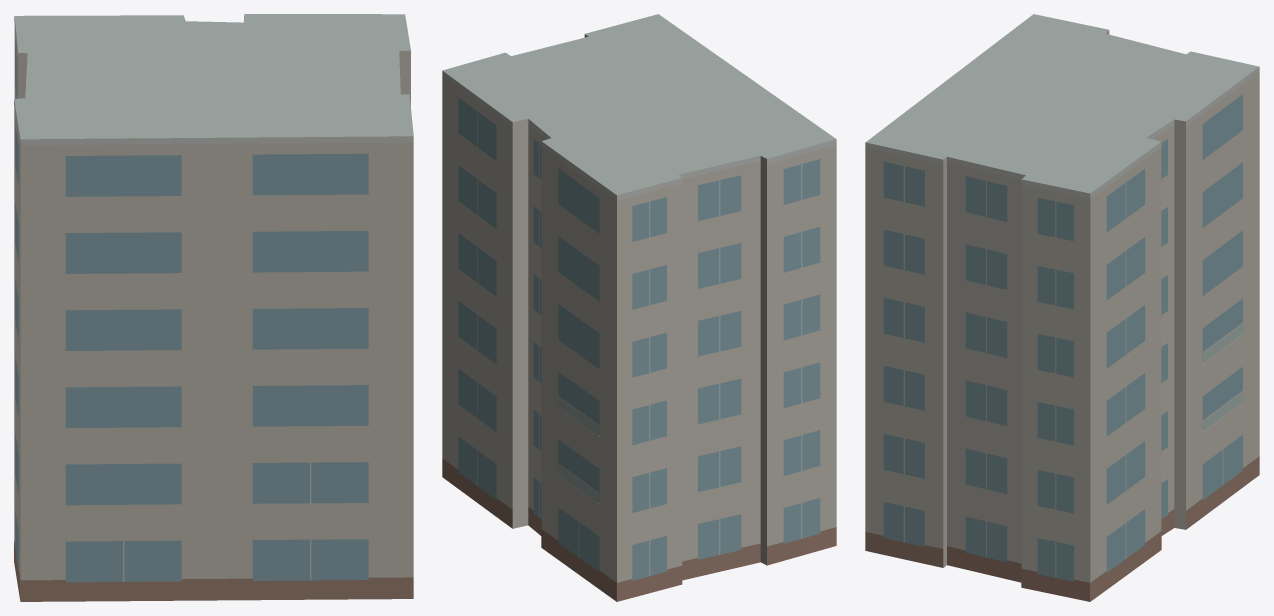
File: survey-upis-32851990.glb
3 renders of one model, left to right at view 1: azimuth 30°, elevation 25°; view 2: azimuth 150°, elevation 25°; view 3: azimuth 270°, elevation 25°, orthographic. The views are drawn at different scales.
Visible parts, largest first — view 1: survey-upis-32851990.tmp; view 2: survey-upis-32851990.tmp; view 3: survey-upis-32851990.tmp.
Boxes of the visible parts, box(x1,y1,x2,y2) form: survey-upis-32851990.tmp: box(14, 14, 413, 601); survey-upis-32851990.tmp: box(442, 14, 836, 601); survey-upis-32851990.tmp: box(865, 14, 1259, 601).
Bounding box in the file's own units: 17.26 × 18.3 × 16.01.
